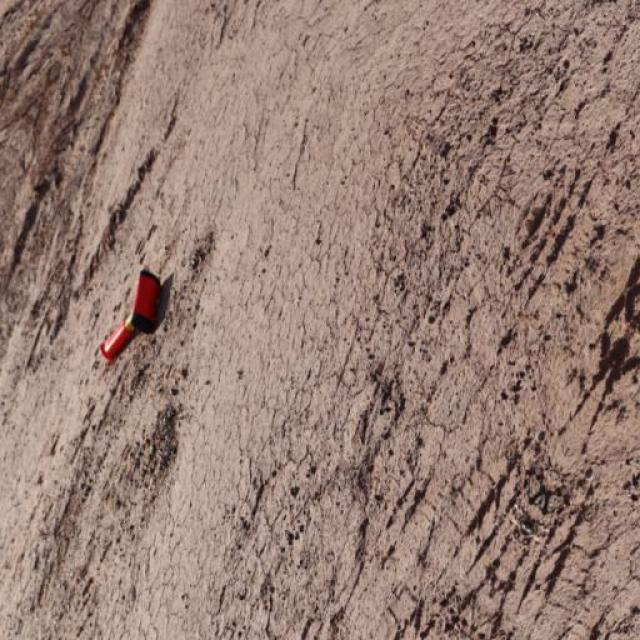mallet: (98, 266, 164, 365)
